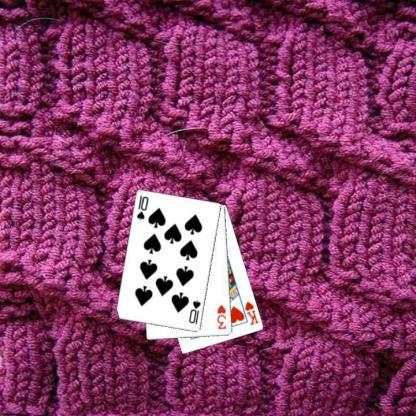10S: (134, 193, 150, 222), (187, 297, 202, 326)
3H: (215, 302, 228, 331)
KH: (243, 299, 260, 326)
